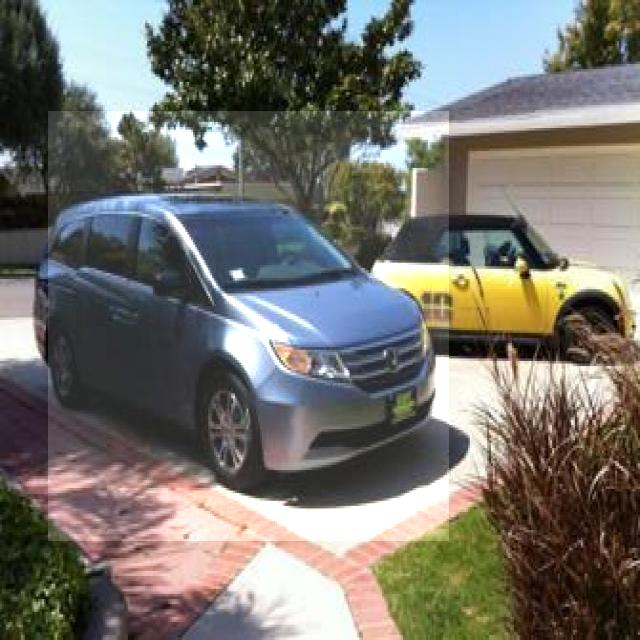Car: (48, 111, 449, 542)
